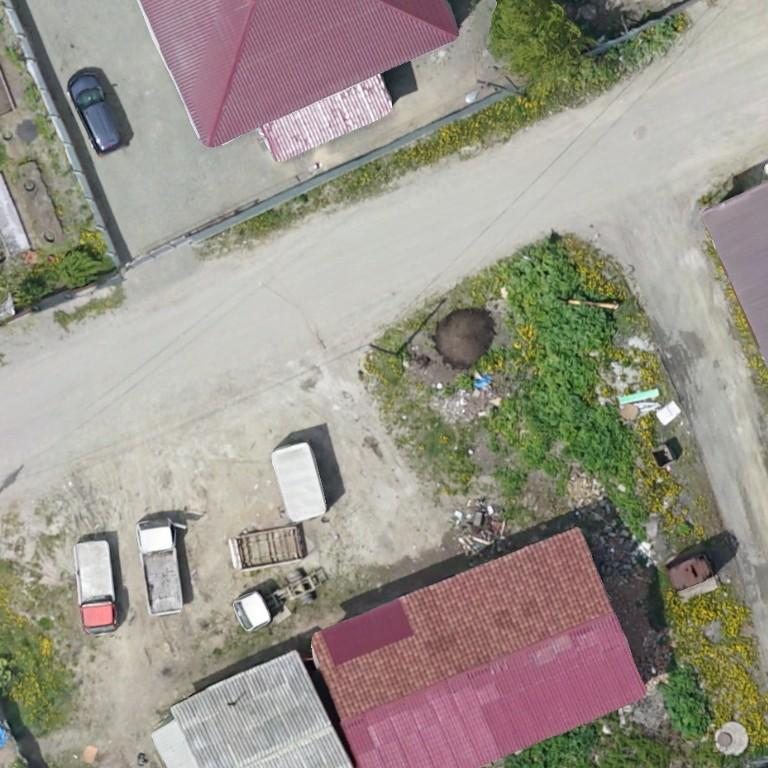hogweed: (495, 249, 630, 475), (505, 725, 596, 767), (658, 667, 710, 736)
